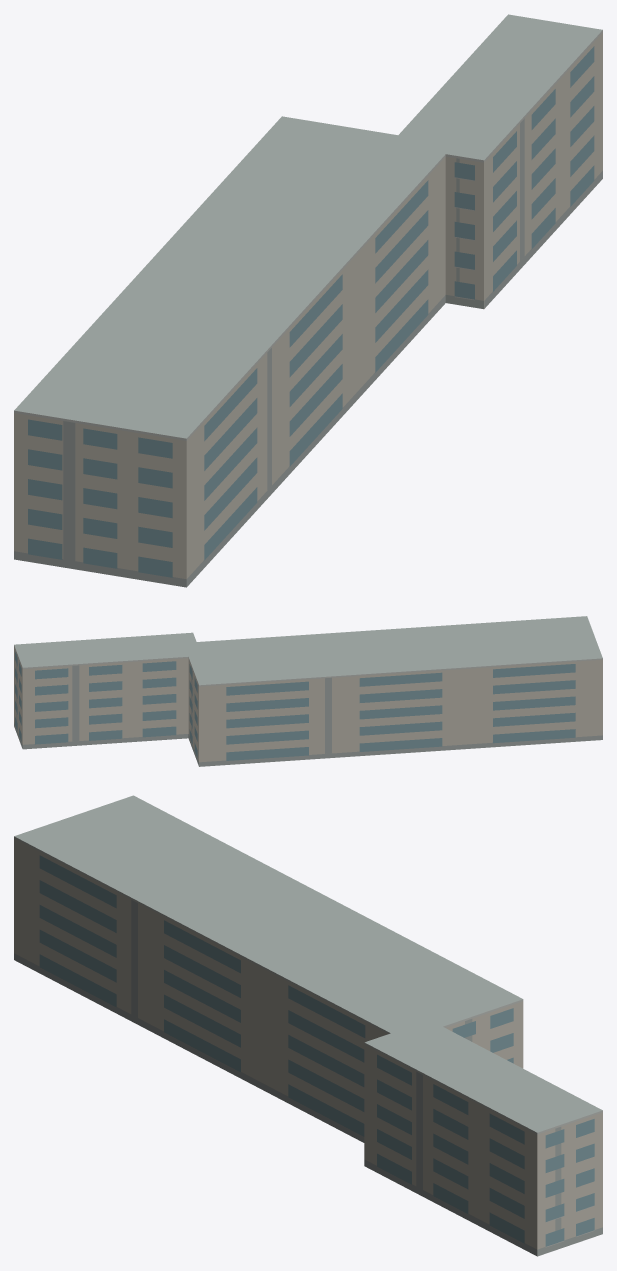
Rendered from residential-346bd5ad-901d-4af1-9393-1c1b3c254ff0.glb.
3 views of the same model, one above another, from view 1: azimuth 30°, elevation 25°; view 2: azimuth 150°, elevation 25°; view 3: azimuth 270°, elevation 25° (orthographic). The views are drawn at different scales.
Parts seen in each view (by area): view 1: residential-346bd5ad-901d-4af1-9393-1c1b3c254ff0.tmp; view 2: residential-346bd5ad-901d-4af1-9393-1c1b3c254ff0.tmp; view 3: residential-346bd5ad-901d-4af1-9393-1c1b3c254ff0.tmp.
Boxes of the visible parts, bbox=[...] form: residential-346bd5ad-901d-4af1-9393-1c1b3c254ff0.tmp: bbox=[14, 14, 602, 587]; residential-346bd5ad-901d-4af1-9393-1c1b3c254ff0.tmp: bbox=[14, 616, 602, 766]; residential-346bd5ad-901d-4af1-9393-1c1b3c254ff0.tmp: bbox=[14, 795, 602, 1256].
Bounding box in the file's own units: 89.16 × 15.25 × 65.78.
